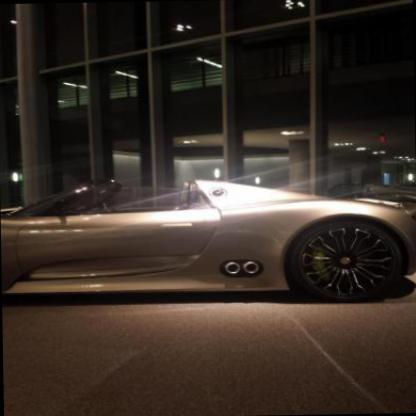car: (0, 171, 415, 314)
